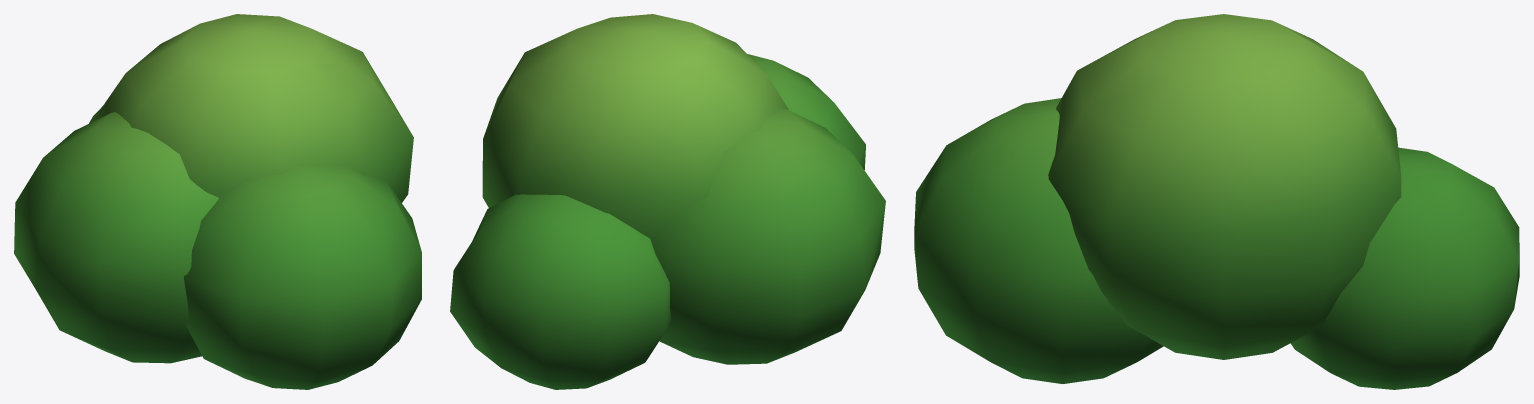
File: tufa_0.glb
3 views of the same model, side by side, from view 1: azimuth 30°, elevation 25°; view 2: azimuth 150°, elevation 25°; view 3: azimuth 270°, elevation 25° (orthographic). The views are drawn at different scales.
Visible parts, largest first — view 1: tufa_0; view 2: tufa_0; view 3: tufa_0.
Boxes of the visible parts, left/top/right/bottom form: tufa_0: left=14, top=14, right=421, bottom=389; tufa_0: left=450, top=14, right=885, bottom=389; tufa_0: left=914, top=14, right=1519, bottom=389.
Bounding box in the file's own units: 0.9743 × 0.7624 × 1.2.
